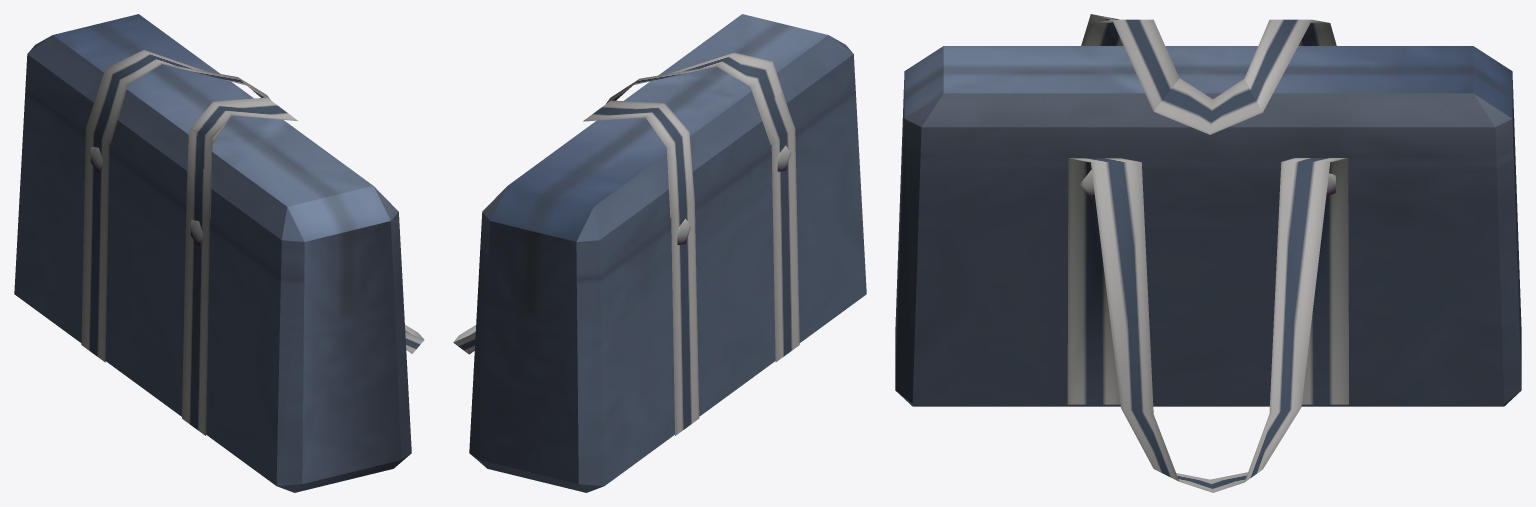
File: bag_typeA2.FBX
The picture shows the model from 3 angles, left to right: view 1: azimuth 30°, elevation 25°; view 2: azimuth 150°, elevation 25°; view 3: azimuth 270°, elevation 25°; orthographic projection. The views are drawn at different scales.
Visible parts, largest first — view 1: crm_bagA001; view 2: crm_bagA001; view 3: crm_bagA001.
Part boxes in pixels (<box>): crm_bagA001: <box>14,14,424,492</box>; crm_bagA001: <box>453,14,866,492</box>; crm_bagA001: <box>895,14,1521,492</box>.
Bounding box in the file's own units: 24.91 × 26.43 × 43.33.
